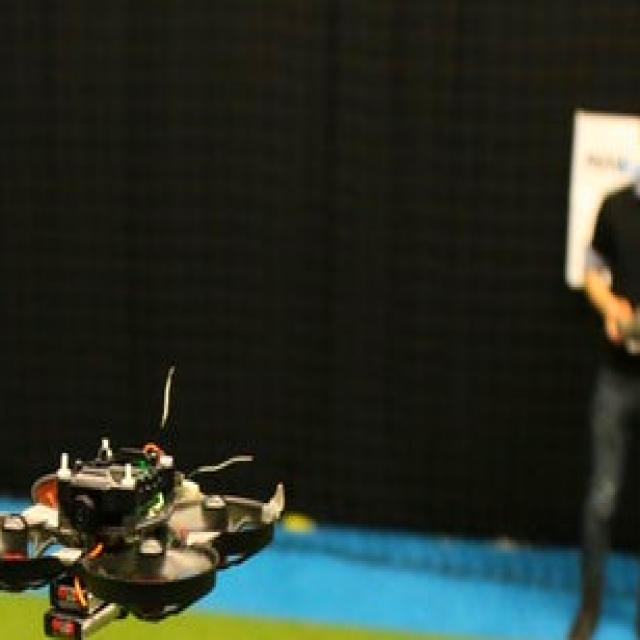drone: (0, 413, 301, 632)
